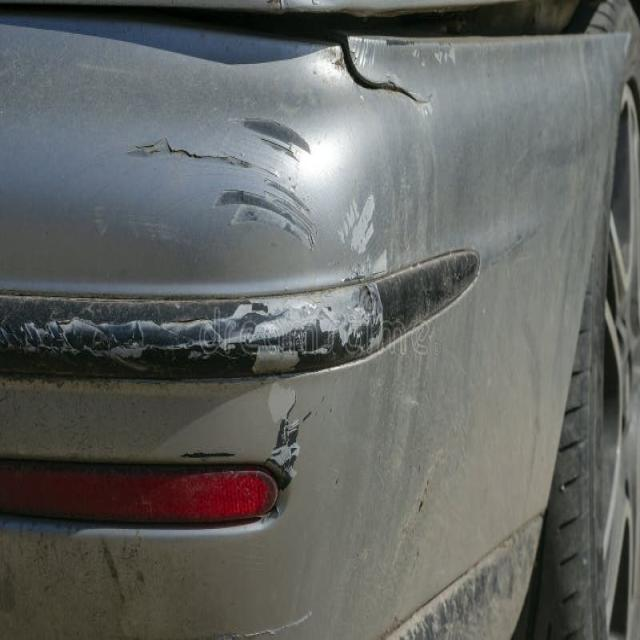misalignment: (50, 0, 637, 38)
scratch: (0, 92, 413, 499), (14, 521, 152, 606), (401, 449, 446, 537), (347, 37, 459, 72), (210, 608, 315, 640), (325, 46, 346, 75)
tear: (337, 37, 435, 107)
